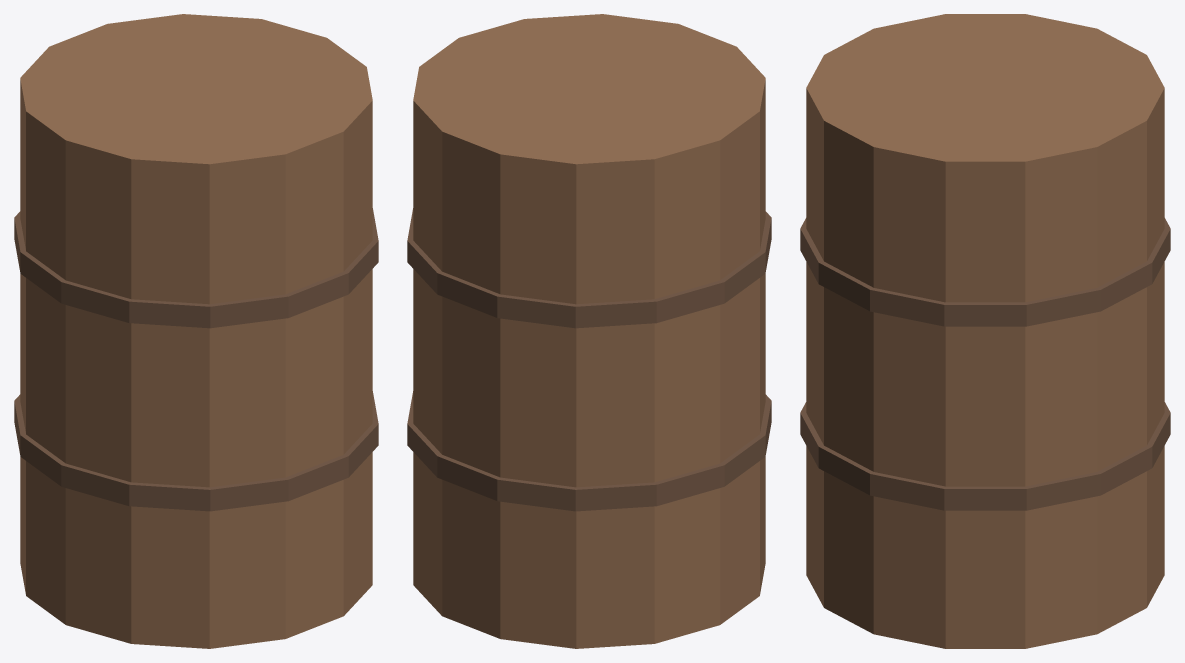
Rendered from obs_drum.glb.
3 renders of one model, left to right at view 1: azimuth 30°, elevation 25°; view 2: azimuth 150°, elevation 25°; view 3: azimuth 270°, elevation 25°, orthographic.
Parts seen in each view (by area): view 1: obs_drum; view 2: obs_drum; view 3: obs_drum.
Part boxes in pixels (bbox=[...]): obs_drum: bbox=[14, 14, 378, 648]; obs_drum: bbox=[407, 14, 771, 648]; obs_drum: bbox=[800, 14, 1170, 648].
Bounding box in the file's own units: 0.6045 × 0.9 × 0.62.
